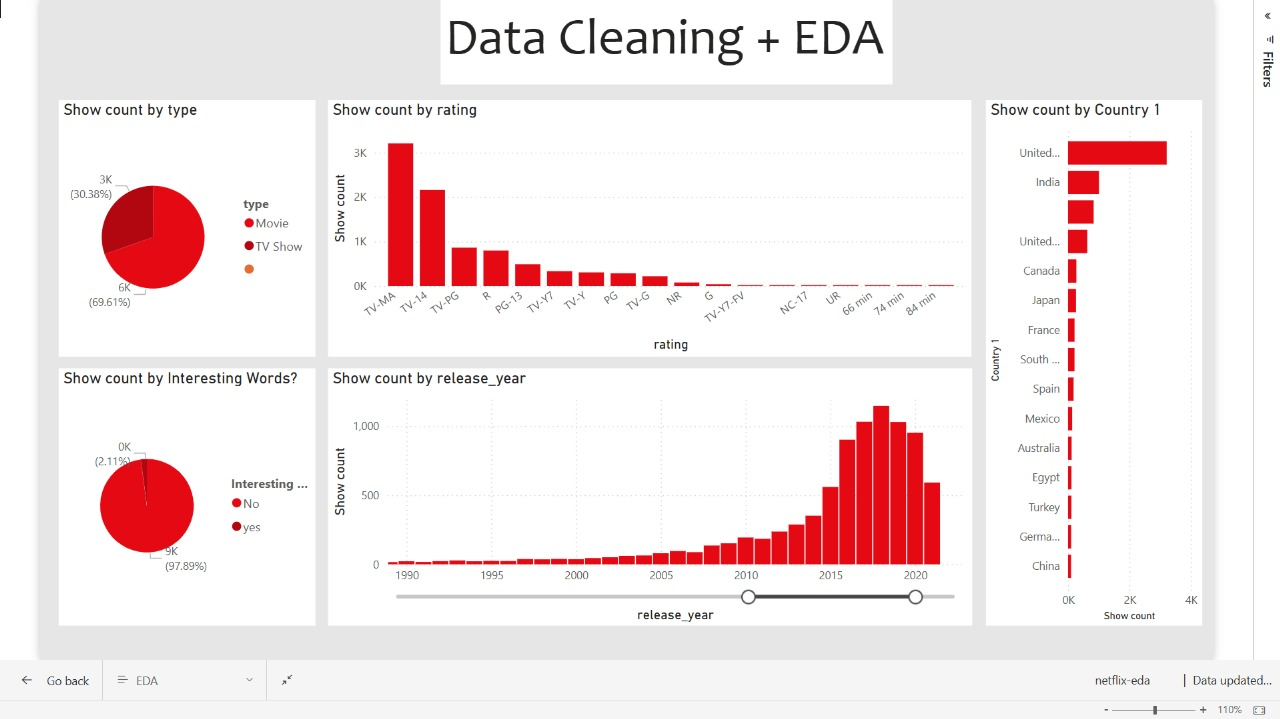

The page's visual inventory and layout, read from the dashboard file:
{"tool":"powerbi","page":{"name":"EDA","canvas":[1280,720],"ordinal":0},"visuals":[{"type":"pieChart","fields":{"Y":["netsflix-shows-kaggle.Show count"],"Category":["netsflix-shows-kaggle.type"]},"box":[20.5,109.1,280.3,280.3],"z":0},{"type":"columnChart","fields":{"Category":["netsflix-shows-kaggle.rating"],"Y":["netsflix-shows-kaggle.Show count"]},"box":[314.8,109.2,701.6,279.9],"z":1000},{"type":"pieChart","fields":{"Y":["netsflix-shows-kaggle.Show count"],"Category":["netsflix-shows-kaggle.Interesting Words?"]},"box":[20.9,401.9,279.9,281.1],"z":2000},{"type":"columnChart","fields":{"Category":["netsflix-shows-kaggle.release_year"],"Y":["netsflix-shows-kaggle.Show count"]},"box":[314.8,401.9,702.7,281.1],"z":3000},{"type":"clusteredBarChart","fields":{"Category":["netsflix-shows-kaggle.Country 1"],"Y":["netsflix-shows-kaggle.Show count"]},"box":[1031.4,109.2,235.8,573.8],"z":4000},{"type":"textbox","box":[437,0,492.7,91.6],"z":4001}]}

Visuals, with their boxes on the page's 1280x720 design canvas (x1, y1, x2, y2). These are canvas units, not pixel positions in the 1280x719 screenshot, which may show the page scaled, cropped or inside an application window:
pieChart - netsflix-shows-kaggle.Show count x netsflix-shows-kaggle.type: (20, 109, 301, 389)
columnChart - netsflix-shows-kaggle.rating x netsflix-shows-kaggle.Show count: (315, 109, 1016, 389)
pieChart - netsflix-shows-kaggle.Show count x netsflix-shows-kaggle.Interesting Words?: (21, 402, 301, 683)
columnChart - netsflix-shows-kaggle.release_year x netsflix-shows-kaggle.Show count: (315, 402, 1018, 683)
clusteredBarChart - netsflix-shows-kaggle.Country 1 x netsflix-shows-kaggle.Show count: (1031, 109, 1267, 683)
textbox: (437, 0, 930, 92)
